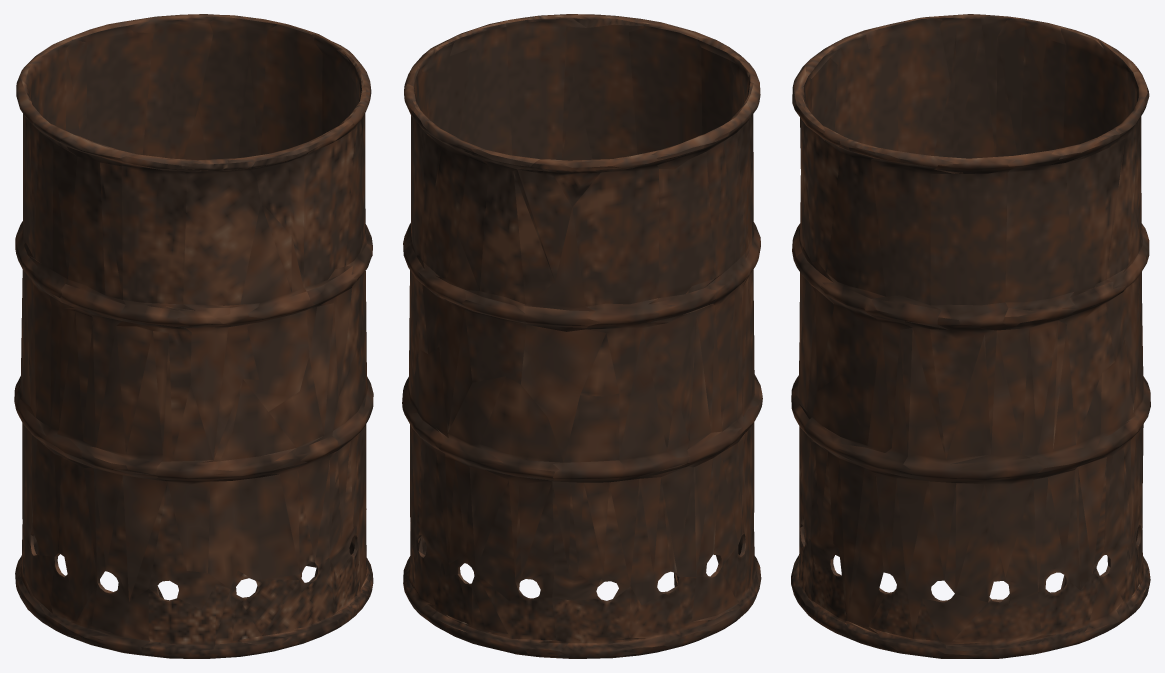
Rendered from oil-drum.glb.
3 views of the same model, side by side, from view 1: azimuth 30°, elevation 25°; view 2: azimuth 150°, elevation 25°; view 3: azimuth 270°, elevation 25° (orthographic).
Size of the model in its own units: 1.23 by 1.9 by 1.24.
1 material, 1 textured.
